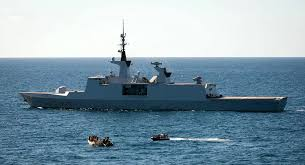tau_muctieu: (30, 45, 282, 112)
